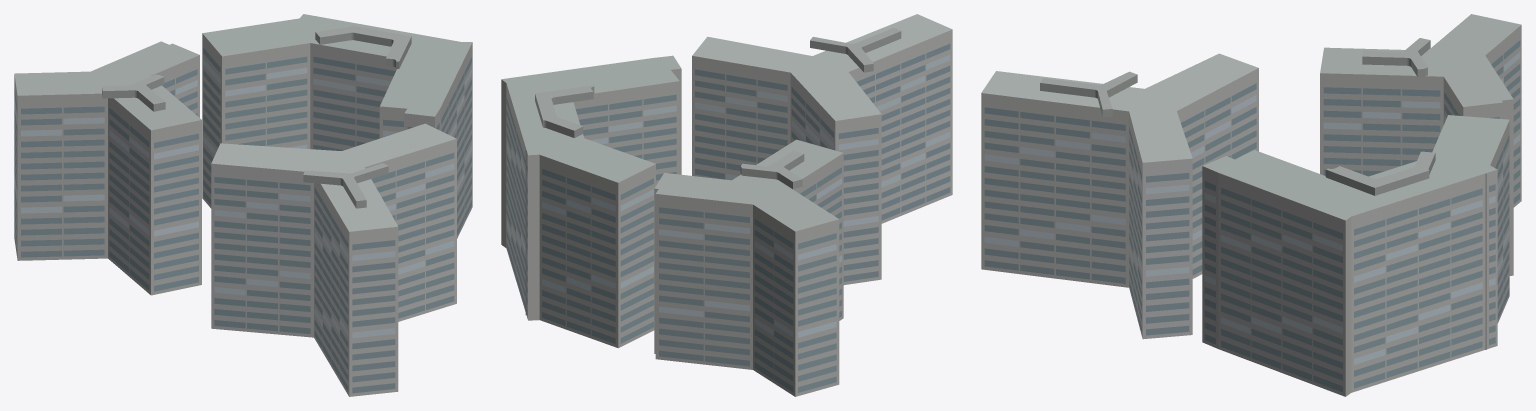
File: apt-a15384603.glb
3 renders of one model, left to right at view 1: azimuth 30°, elevation 25°; view 2: azimuth 150°, elevation 25°; view 3: azimuth 270°, elevation 25°, orthographic. The views are drawn at different scales.
Parts seen in each view (by area): view 1: apt-a15384603; view 2: apt-a15384603; view 3: apt-a15384603.
Part boxes in pixels (<box>): apt-a15384603: <box>14,14,472,396</box>; apt-a15384603: <box>501,14,952,396</box>; apt-a15384603: <box>981,14,1521,396</box>.
Size of the model in its own units: 115 by 47.81 by 127.
